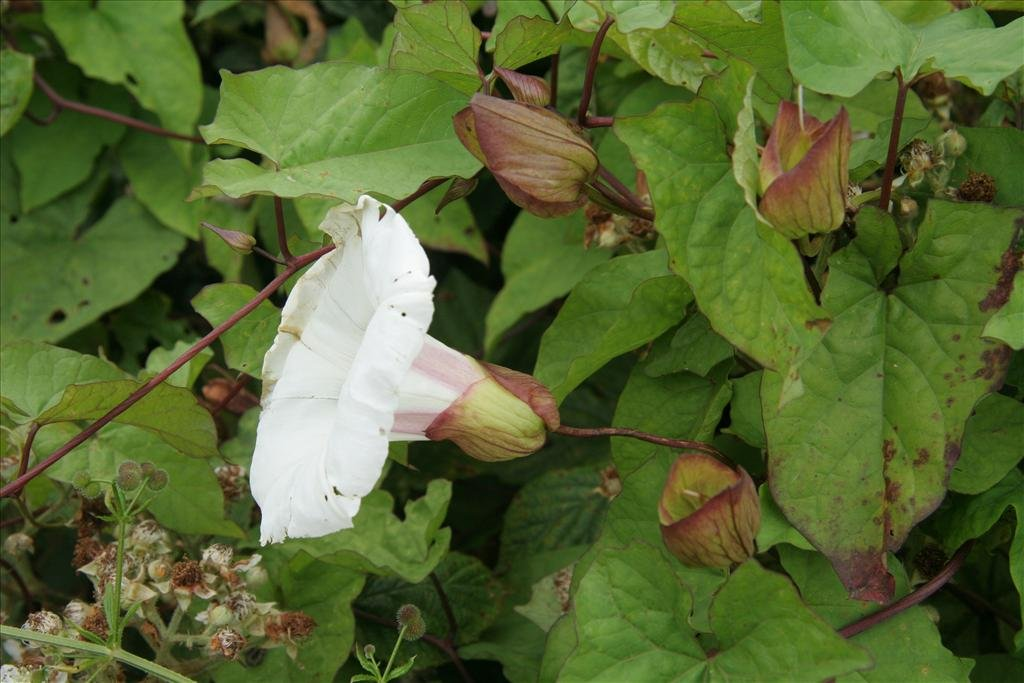haagwinde: (182, 53, 958, 636)
